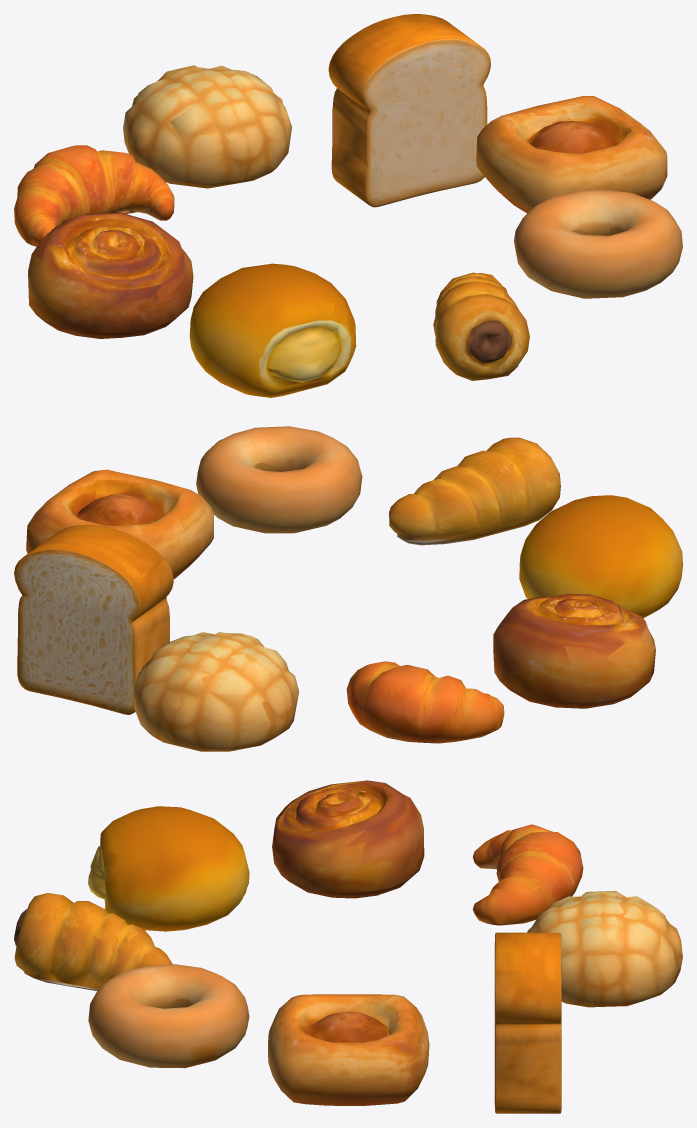
Rendered from allpan.glb.
The picture shows the model from 3 angles, top to bottom: view 1: azimuth 30°, elevation 25°; view 2: azimuth 150°, elevation 25°; view 3: azimuth 270°, elevation 25°; orthographic projection. The views are drawn at different scales.
Parts seen in each view (by area): view 1: SliceBread, creampan, cinnaman, melonpan, applepie, bagel, croissant, chococolone; view 2: SliceBread, melonpan, cinnaman, creampan, bagel, chococolone, applepie, croissant; view 3: applepie, creampan, cinnaman, bagel, melonpan, SliceBread, chococolone, croissant.
Boxes of the visible parts, <box> form: SliceBread: <box>328,14,490,207</box>; creampan: <box>189,263,356,397</box>; cinnaman: <box>28,212,193,338</box>; melonpan: <box>123,65,291,188</box>; applepie: <box>476,96,667,213</box>; bagel: <box>514,189,682,298</box>; croissant: <box>14,145,174,246</box>; chococolone: <box>433,272,529,380</box>; SliceBread: <box>14,525,173,714</box>; melonpan: <box>133,632,298,751</box>; cinnaman: <box>493,593,655,708</box>; creampan: <box>519,495,682,617</box>; bagel: <box>196,426,362,533</box>; chococolone: <box>389,437,560,545</box>; applepie: <box>26,469,213,578</box>; croissant: <box>346,661,504,743</box>; applepie: <box>268,994,429,1105</box>; creampan: <box>88,806,249,931</box>; cinnaman: <box>272,780,424,898</box>; bagel: <box>88,964,249,1068</box>; melonpan: <box>527,890,682,1007</box>; SliceBread: <box>494,932,561,1113</box>; chococolone: <box>14,893,172,990</box>; croissant: <box>472,824,583,925</box>.
Bounding box in the file's own units: 7.9 × 1.91 × 7.9.
Materials: 8 (8 with a texture image).
